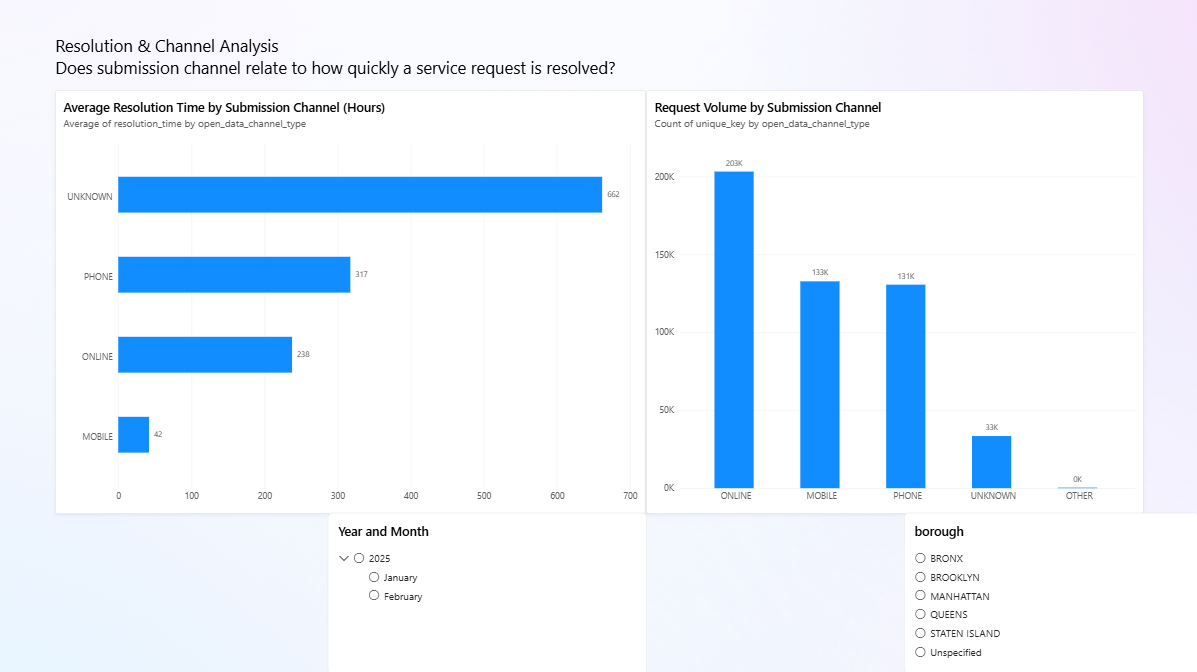

What the dashboard file says about the page in this screenshot:
{"tool":"powerbi","page":{"name":"Resolution & Channel Analysis","canvas":[1920,1080],"ordinal":5},"visuals":[{"type":"clusteredBarChart","title":"Average Resolution Time by Submission Channel (Hours)","fields":{"Category":["ServiceRequests.open_data_channel_type"],"Y":["Avg(ServiceRequests.resolution_time)"]},"box":[90,145,945,677.5],"z":0},{"type":"clusteredColumnChart","title":"Request Volume by Submission Channel","fields":{"Category":["ServiceRequests.open_data_channel_type"],"Y":["CountNonNull(ServiceRequests.unique_key)"]},"box":[1035,145,795,677.5],"z":1},{"type":"listSlicer","fields":{"Values":["ServiceRequests.borough"]},"box":[1447.5,822.5,472.5,257.5],"z":2},{"type":"textbox","box":[90,55,945,130],"z":3},{"type":"listSlicer","fields":{"Values":["ServiceRequests.created_date.Variation.Date Hierarchy.Year","ServiceRequests.created_date.Variation.Date Hierarchy.Month"]},"box":[526,822,510,258],"z":4}]}

Visuals, with their boxes in screenshot pixels (x1, y1, x2, y2), scaled from the page's 1920x1080 canvas onto the 1197x672 screenshot:
"Average Resolution Time by Submission Channel (Hours)" clusteredBarChart: pyautogui.locateOnScreen(56, 90, 645, 512)
"Request Volume by Submission Channel" clusteredColumnChart: pyautogui.locateOnScreen(645, 90, 1141, 512)
listSlicer - ServiceRequests.borough: pyautogui.locateOnScreen(902, 512, 1196, 671)
textbox: pyautogui.locateOnScreen(56, 34, 645, 115)
listSlicer - ServiceRequests.created_date.Variation.Date Hierarchy.Year x ServiceRequests.created_date.Variation.Date Hierarchy.Month: pyautogui.locateOnScreen(328, 511, 646, 671)
